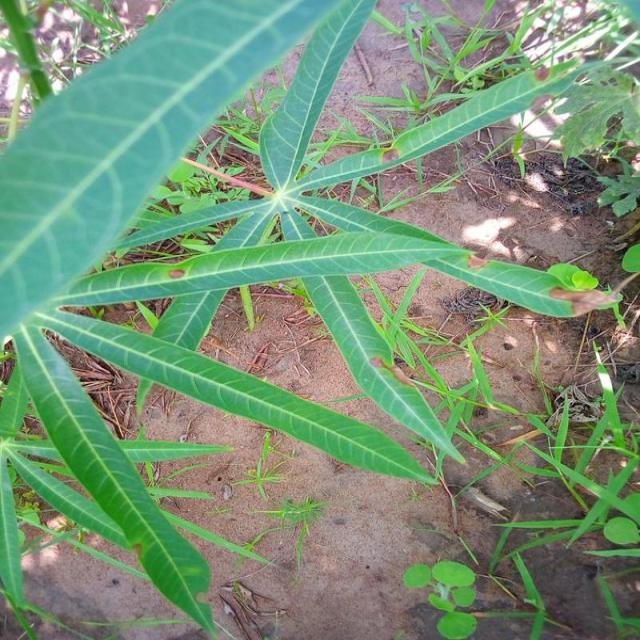cassava leaf: (0, 0, 629, 636)
